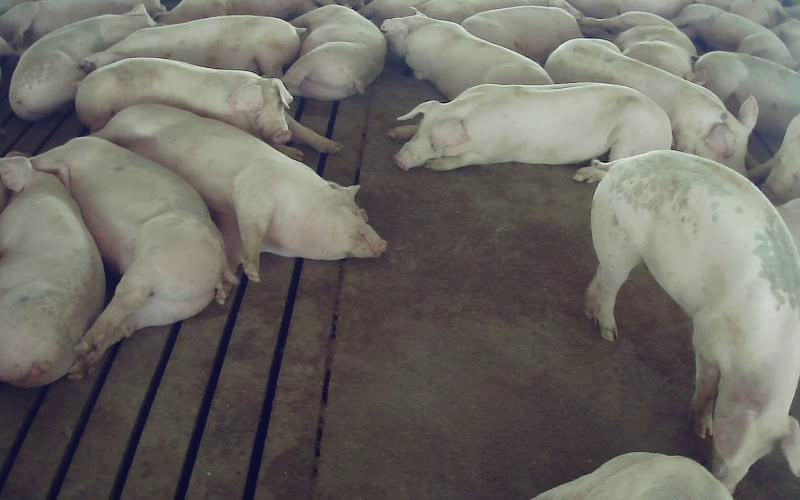pig: (586, 150, 799, 490), (97, 104, 385, 280), (31, 136, 235, 376), (545, 38, 757, 172), (75, 58, 340, 158), (388, 83, 671, 170), (9, 4, 155, 119), (381, 8, 552, 99), (82, 15, 303, 77), (693, 51, 799, 149), (282, 5, 386, 100), (578, 11, 696, 77), (672, 4, 791, 67), (461, 6, 581, 64)
